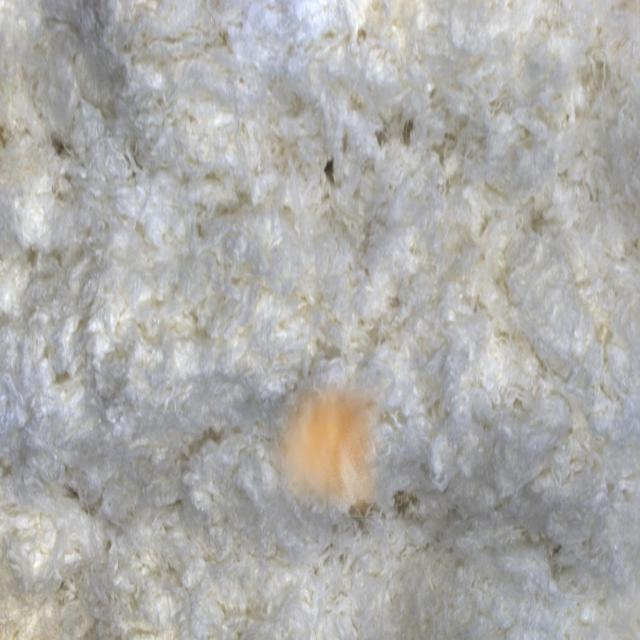dust: (271, 369, 388, 517)
